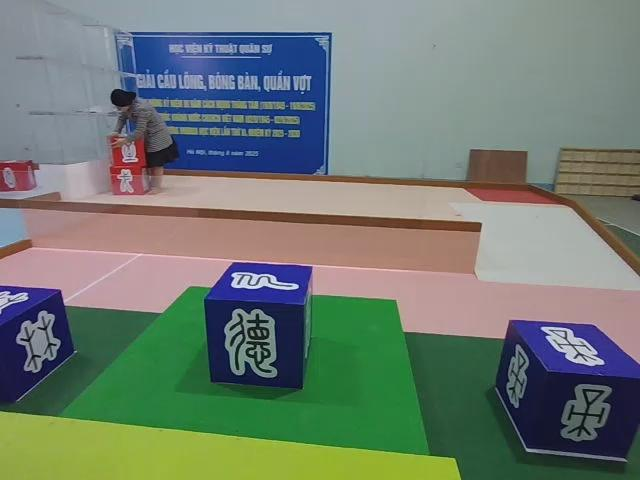R2 Fake Blue: (205, 261, 315, 391)
R2 Real Blue: (496, 320, 639, 465), (0, 285, 74, 405)
